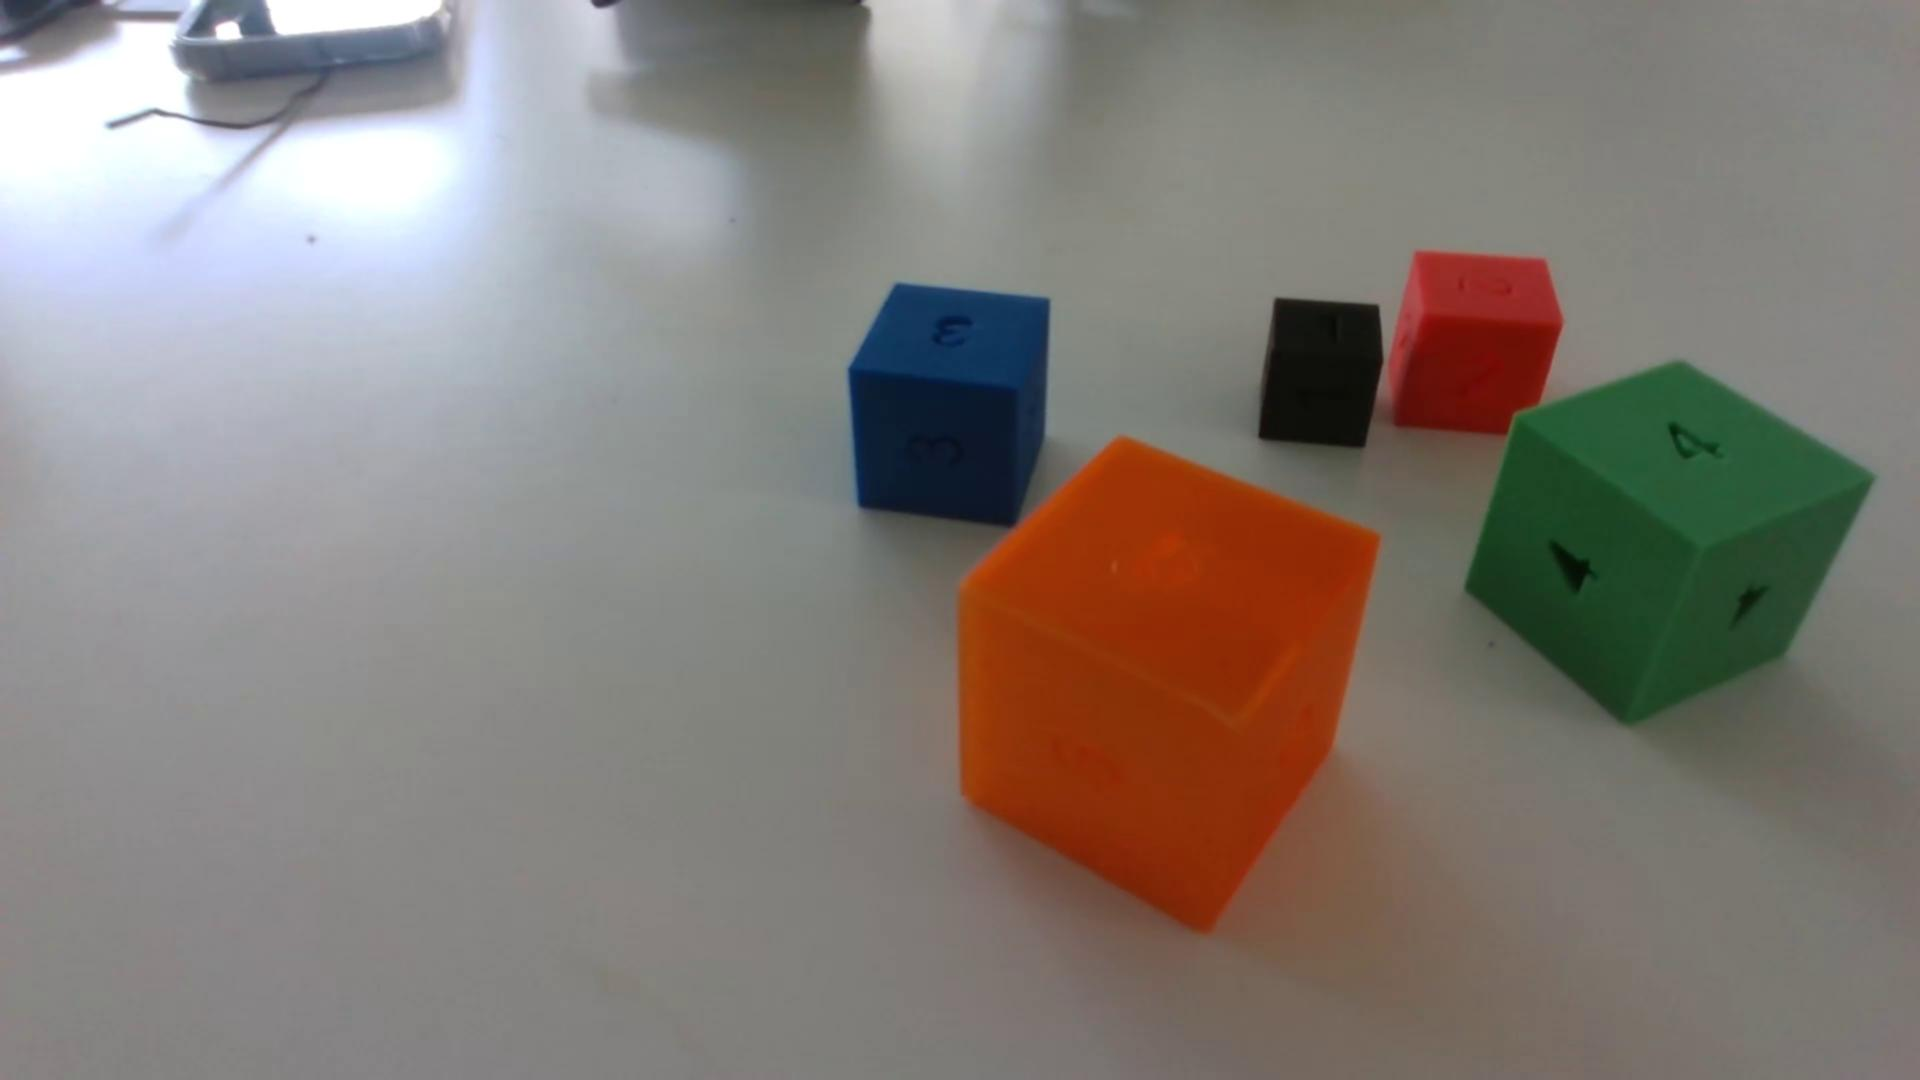black: (1257, 298, 1385, 448)
blue: (848, 284, 1051, 529)
green: (1465, 363, 1873, 724)
orange: (957, 439, 1379, 931)
red: (1387, 251, 1563, 436)
